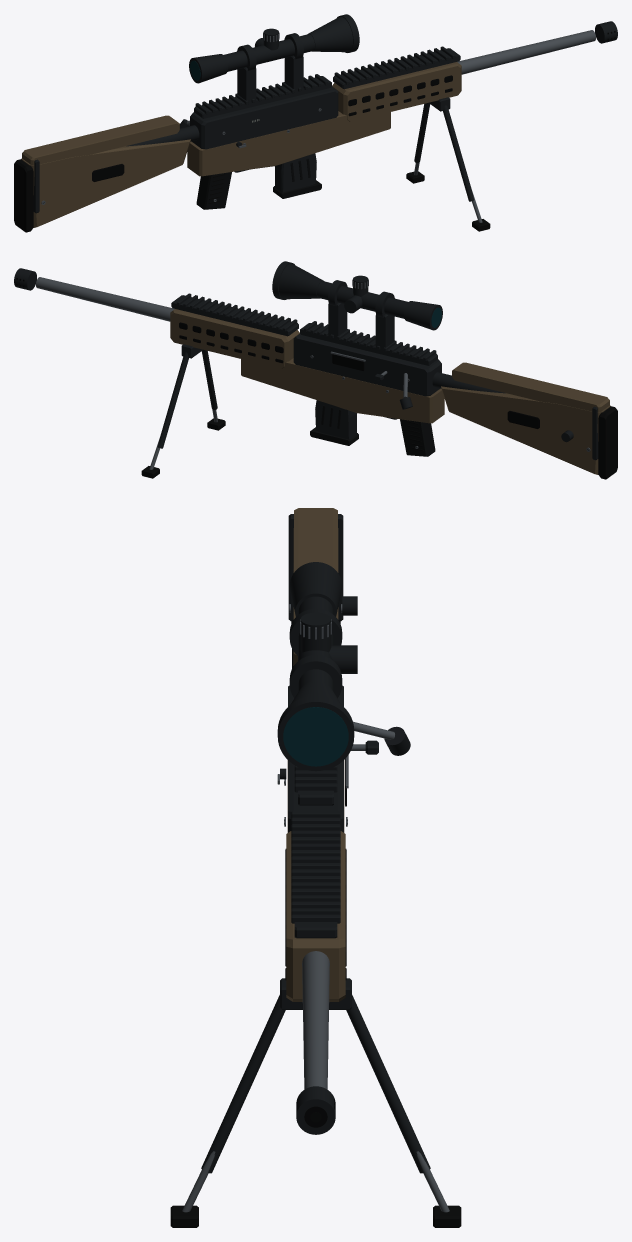
Rendered from 01_precision_rifle.obj.
The picture shows the model from 3 angles, top to bottom: view 1: azimuth 30°, elevation 25°; view 2: azimuth 150°, elevation 25°; view 3: azimuth 270°, elevation 25°; orthographic projection. The views are drawn at different scales.
Visible parts, largest first — view 1: stock_shell_003, chassis_001, receiver_000, handguard_047, cheek_rest_005, heavy_barrel_098, recoil_pad_004, scope_tube_132, objective_bell_134, top_rail_spine_080, magazine_039, top_rail_spine_108 (+11 smaller); view 2: stock_shell_003, chassis_001, receiver_000, handguard_047, cheek_rest_005, heavy_barrel_098, recoil_pad_004, objective_bell_134, top_rail_spine_080, magazine_039, scope_tube_132, top_rail_spine_108 (+12 smaller); view 3: handguard_047, heavy_barrel_098, objective_glass_136, cheek_rest_005, bipod_leg_155, bipod_leg_158, ocular_housing_133, objective_rim_135, receiver_000, muzzle_collar_099, scope_tube_132, scope_clamp_131 (+2 smaller).
Boxes of the visible parts, x1,y1,x2,y2 form: stock_shell_003: (21, 139, 190, 227); chassis_001: (187, 111, 390, 176); receiver_000: (190, 86, 338, 149); handguard_047: (332, 62, 461, 121); cheek_rest_005: (22, 115, 179, 165); heavy_barrel_098: (457, 30, 595, 74); recoil_pad_004: (14, 159, 33, 232); scope_tube_132: (223, 34, 314, 71); objective_bell_134: (308, 16, 352, 52); top_rail_spine_080: (333, 48, 460, 89); magazine_039: (275, 153, 316, 192); top_rail_spine_108: (194, 76, 331, 118); stock_shell_003: (441, 386, 610, 474); chassis_001: (241, 358, 444, 423); receiver_000: (293, 333, 441, 396); handguard_047: (170, 309, 299, 368); cheek_rest_005: (452, 362, 609, 412); heavy_barrel_098: (36, 277, 174, 321); recoil_pad_004: (598, 406, 617, 479); objective_bell_134: (279, 263, 323, 299); top_rail_spine_080: (171, 295, 298, 336); magazine_039: (315, 400, 356, 439); scope_tube_132: (317, 281, 408, 318); top_rail_spine_108: (300, 323, 437, 365); handguard_047: (286, 831, 345, 1001); heavy_barrel_098: (302, 951, 329, 1089); objective_glass_136: (283, 707, 348, 766); cheek_rest_005: (294, 508, 337, 664); bipod_leg_155: (346, 995, 430, 1173); bipod_leg_158: (201, 995, 285, 1173); ocular_housing_133: (289, 562, 342, 616); objective_rim_135: (277, 696, 354, 771); receiver_000: (288, 685, 343, 832); muzzle_collar_099: (296, 1086, 335, 1134); scope_tube_132: (298, 596, 333, 690); scope_clamp_131: (289, 655, 342, 698).
Bounding box in the file's own units: 1.25 × 0.435 × 0.266.
